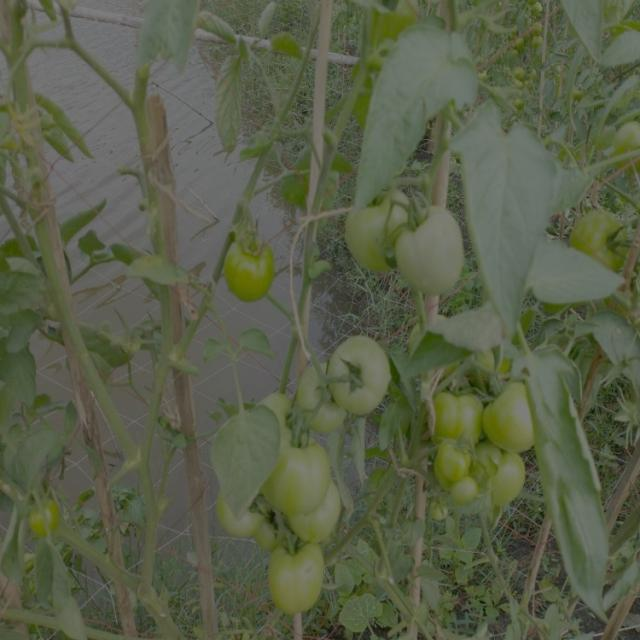tomato: (327, 327, 395, 415), (344, 182, 406, 273), (398, 207, 464, 292), (269, 428, 328, 510), (569, 205, 635, 277), (224, 222, 280, 303), (268, 544, 329, 612), (424, 380, 487, 444), (486, 383, 543, 450), (211, 483, 269, 543), (299, 364, 347, 431), (290, 494, 349, 542), (480, 449, 535, 498), (25, 490, 67, 538), (255, 387, 297, 432), (470, 340, 515, 380), (435, 437, 469, 477), (613, 117, 640, 166), (453, 471, 483, 507)
